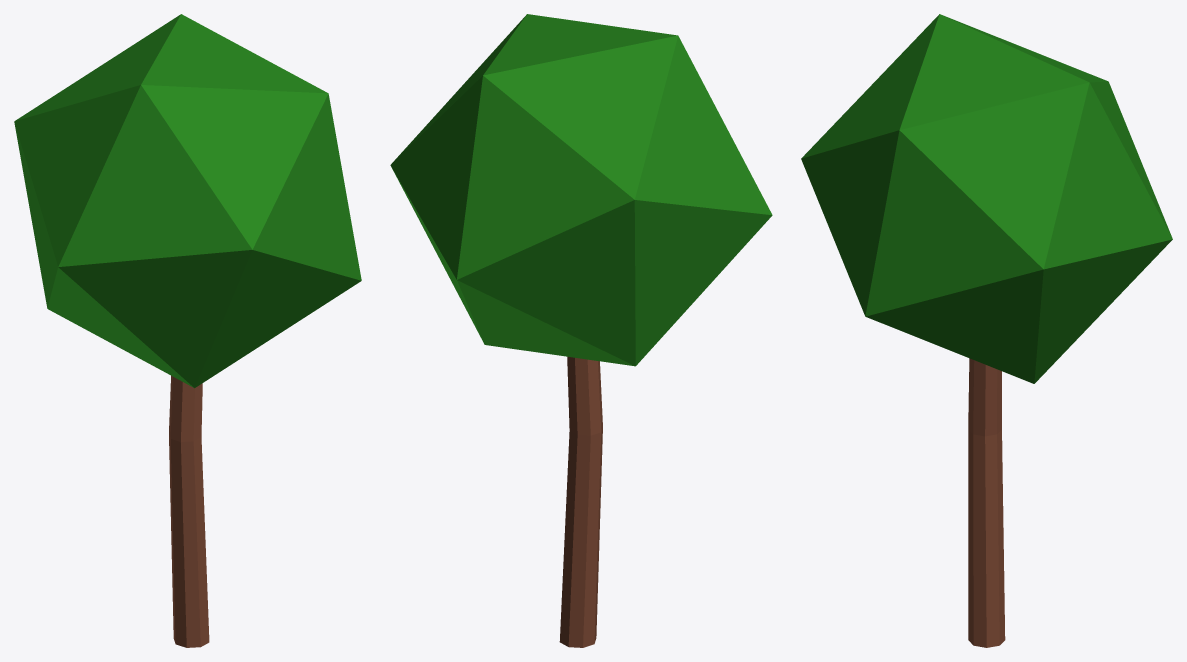
The model's file is Tree_40_summer_mat.fbx.
The picture shows the model from 3 angles, left to right: view 1: azimuth 30°, elevation 25°; view 2: azimuth 150°, elevation 25°; view 3: azimuth 270°, elevation 25°; orthographic projection. The views are drawn at different scales.
Visible parts, largest first — view 1: Tree_40_summer_mat; view 2: Tree_40_summer_mat; view 3: Tree_40_summer_mat.
Boxes of the visible parts, box(x1,y1,x2,y2) form: Tree_40_summer_mat: box(14, 14, 361, 647); Tree_40_summer_mat: box(390, 14, 772, 647); Tree_40_summer_mat: box(801, 14, 1172, 647).
Bounding box in the file's own units: 110 × 196 × 112.
